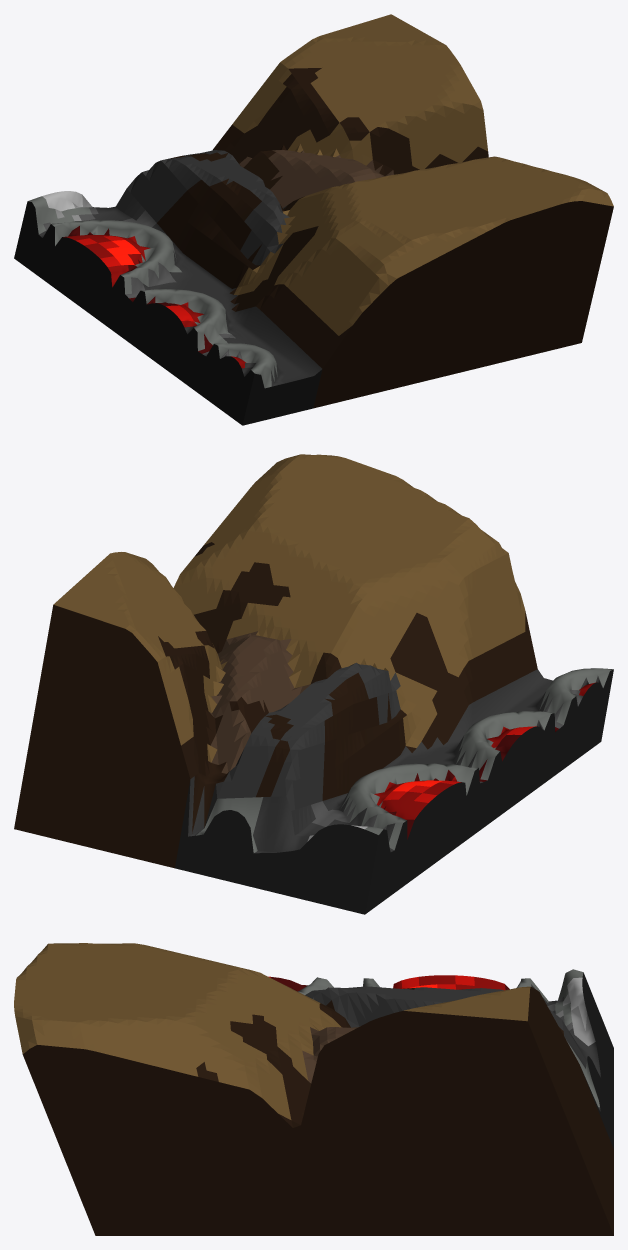
File: ixm_boss_237.glb
3 views of the same model, one above another, from view 1: azimuth 30°, elevation 25°; view 2: azimuth 150°, elevation 25°; view 3: azimuth 270°, elevation 25° (orthographic). The views are drawn at different scales.
Visible parts, largest first — view 1: ixm_boss_237; view 2: ixm_boss_237; view 3: ixm_boss_237.
Part boxes in pixels (x1,y1,x2,y2): ixm_boss_237: (14,14,613,425); ixm_boss_237: (14,454,613,914); ixm_boss_237: (14,943,613,1235).
Size of the model in its own units: 24 by 13.42 by 32.4.
